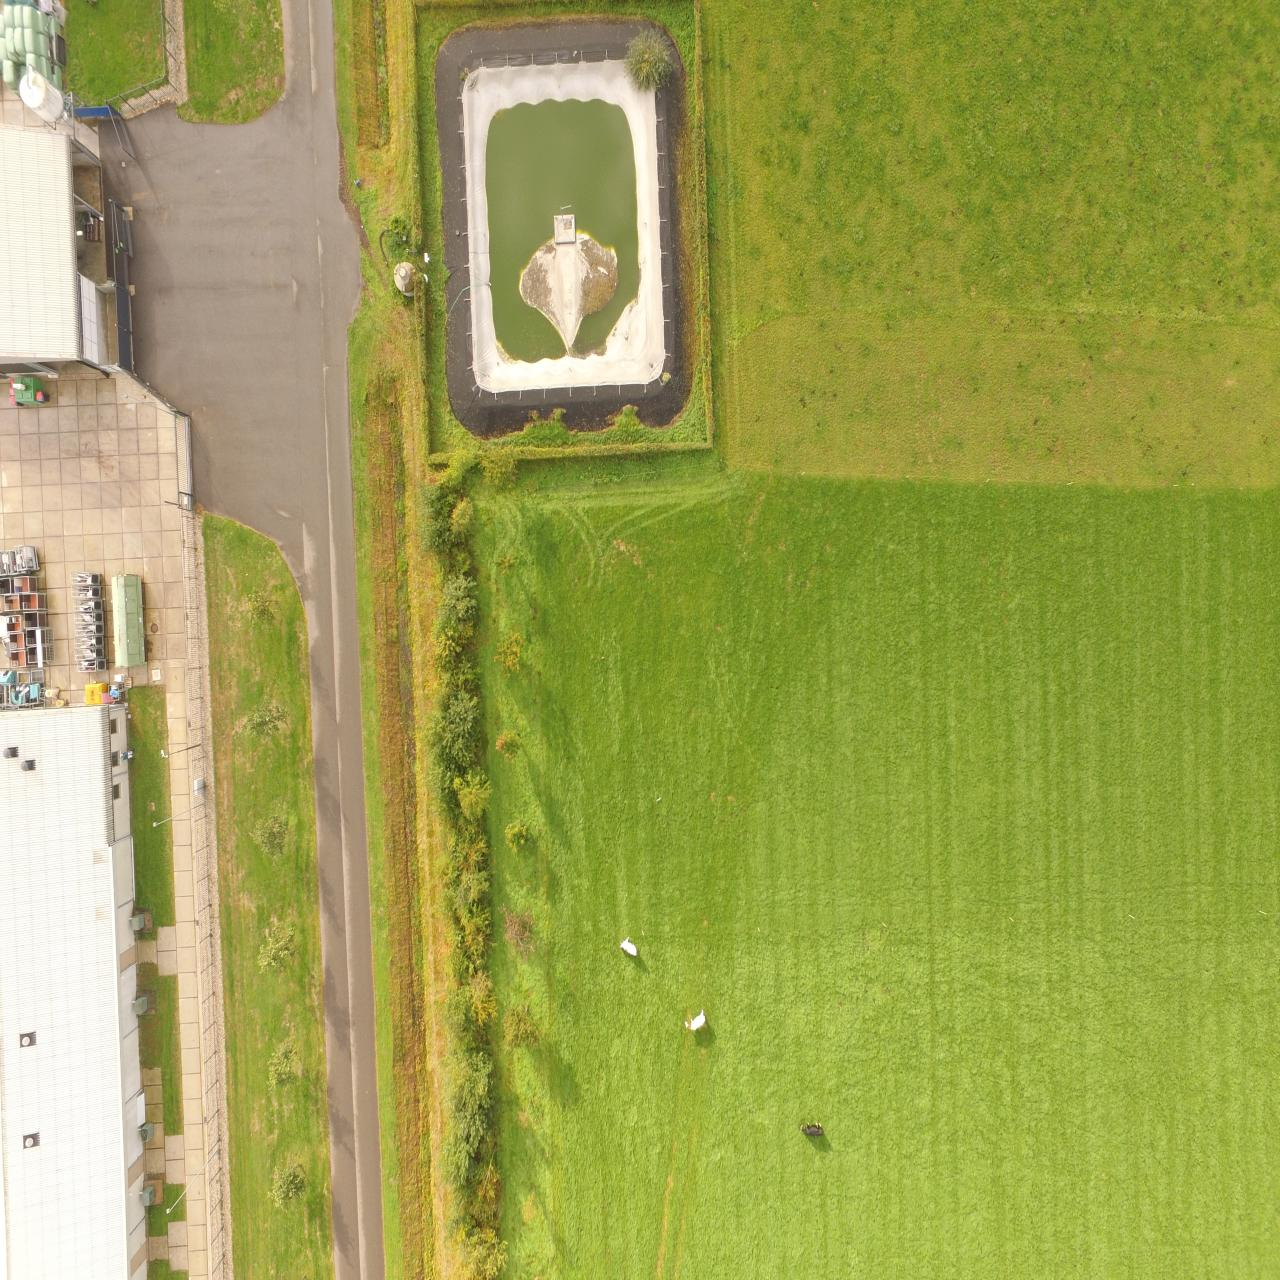cow: (804, 1116, 829, 1148), (682, 1010, 711, 1035), (620, 935, 638, 967)
